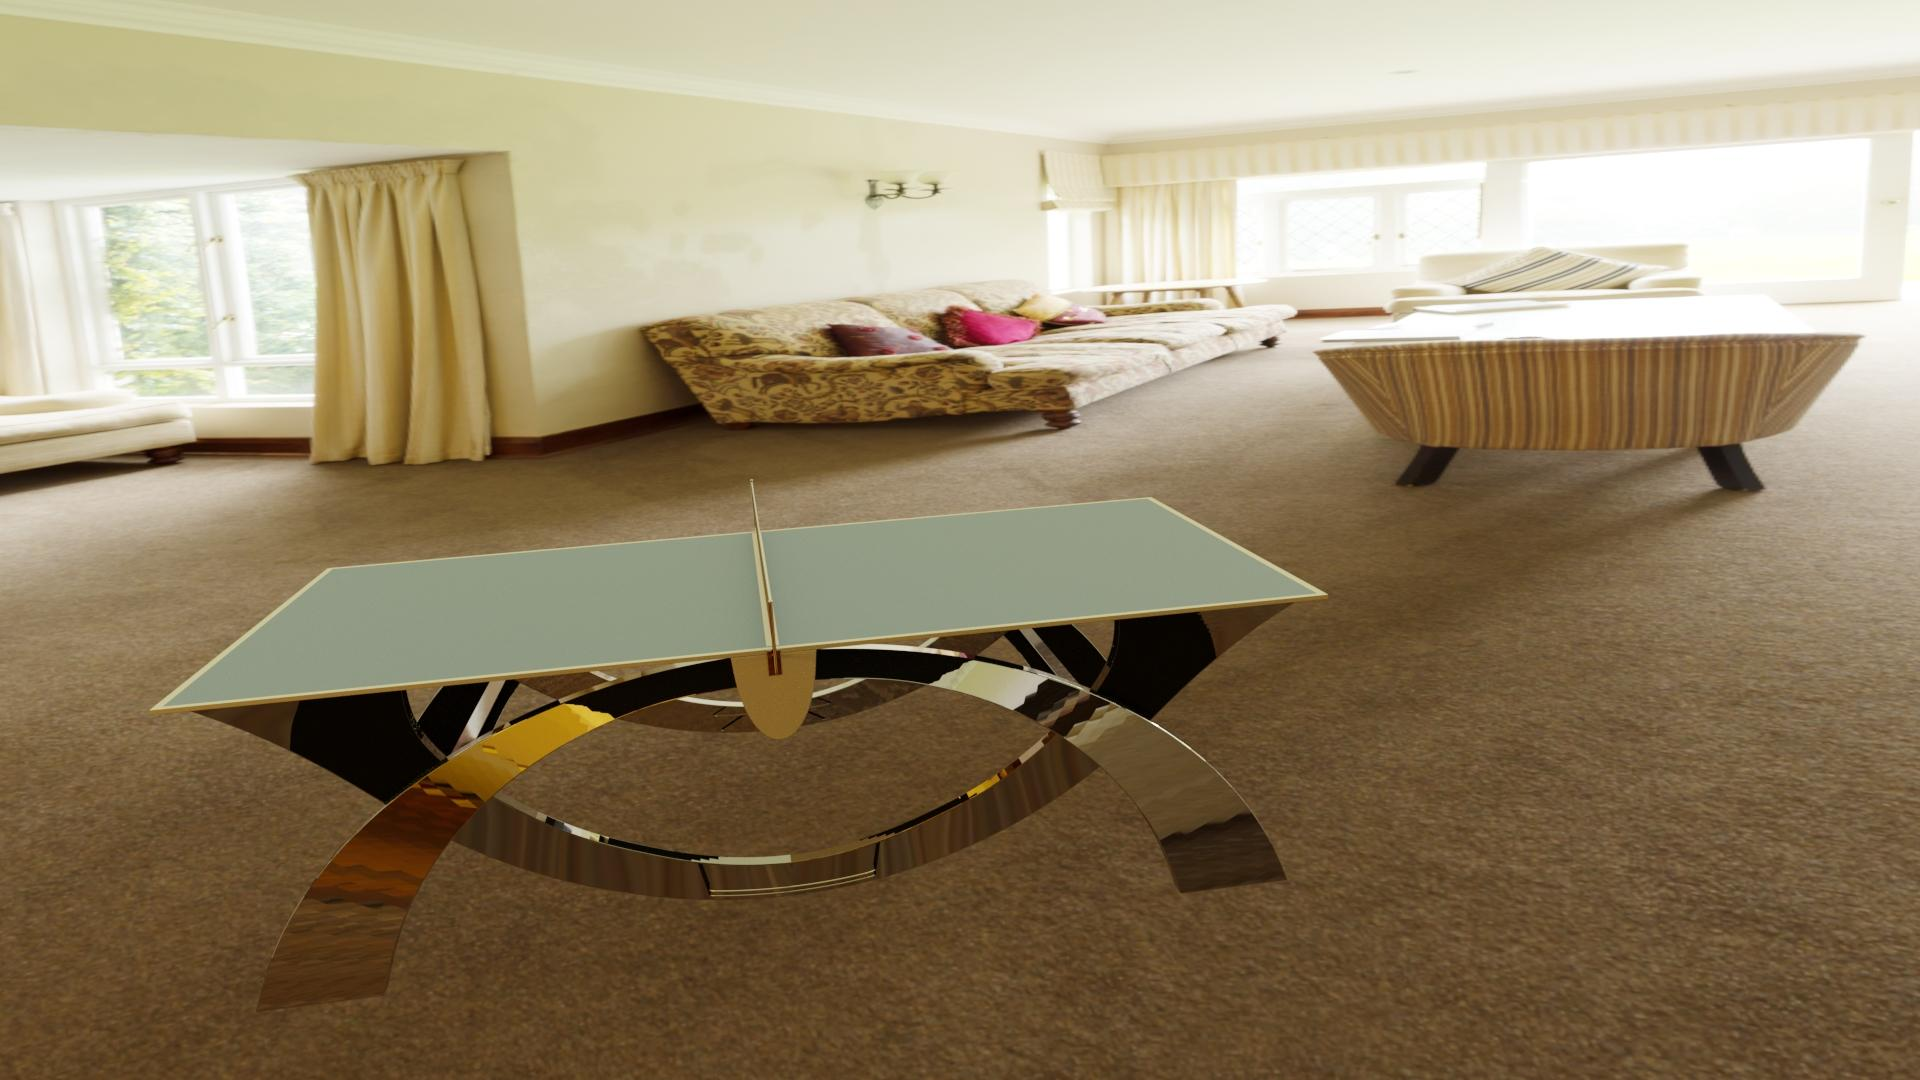table: (162, 498, 1317, 707)
